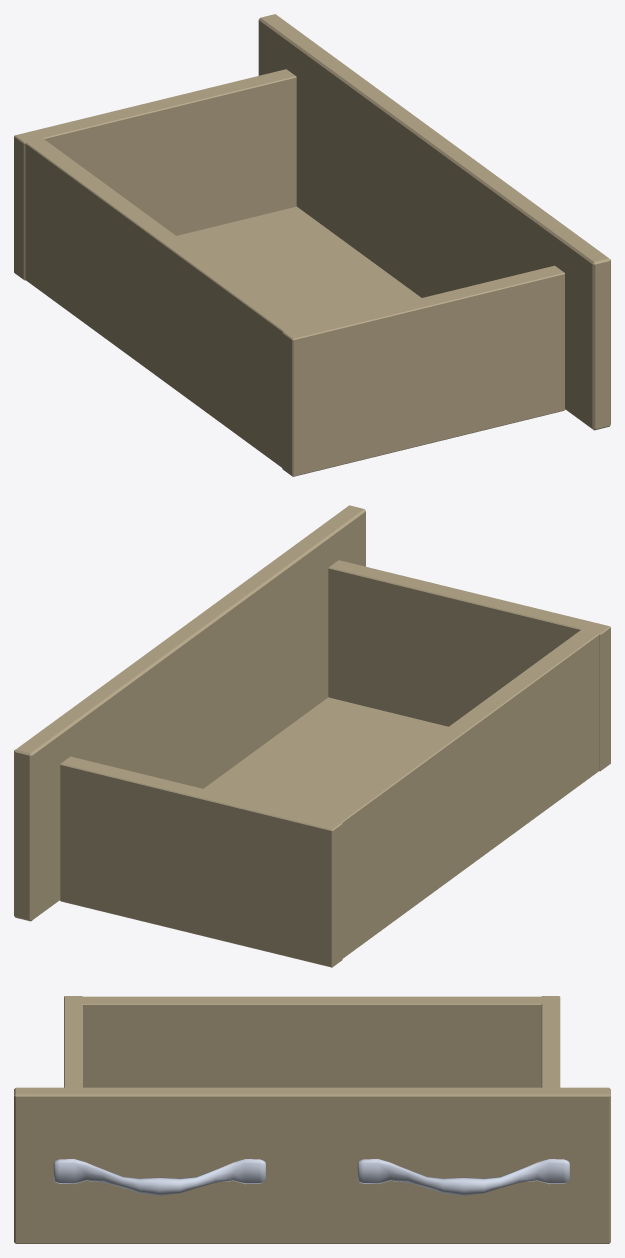
The model's file is DrawerWorkbench.fbx.
3 renders of one model, top to bottom at view 1: azimuth 30°, elevation 25°; view 2: azimuth 150°, elevation 25°; view 3: azimuth 270°, elevation 25°, orthographic. The views are drawn at different scales.
Parts seen in each view (by area): view 1: Drawer; view 2: Drawer; view 3: Drawer.
Part boxes in pixels (x1,y1,x2,y2): Drawer: [14, 14, 610, 476]; Drawer: [14, 505, 610, 967]; Drawer: [14, 996, 610, 1243].
Size of the model in its own units: 108 by 51.53 by 186.
